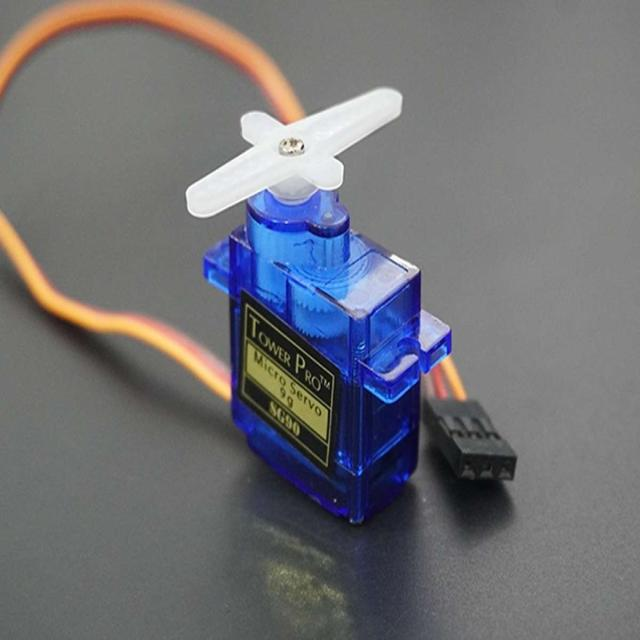servomotor: (163, 73, 488, 523)
